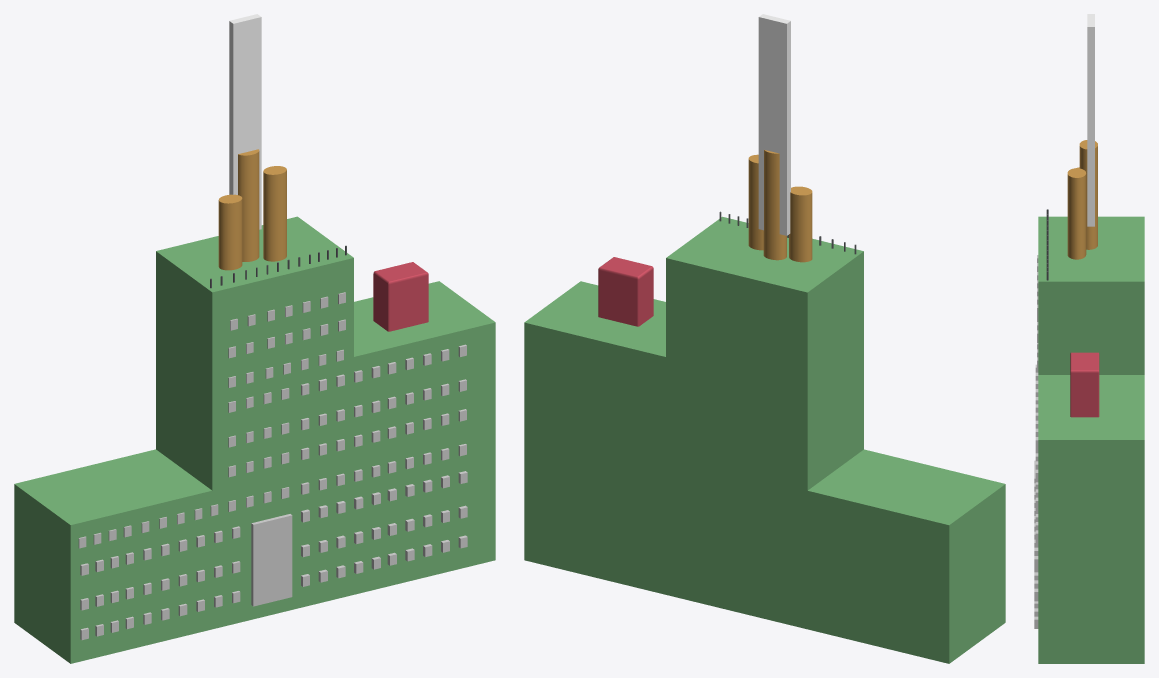
File: task_animated.glb
3 renders of one model, left to right at view 1: azimuth 30°, elevation 25°; view 2: azimuth 150°, elevation 25°; view 3: azimuth 270°, elevation 25°, orthographic. The views are drawn at different scales.
Parts seen in each view (by area): view 1: Mesh_Mesh_head_geo.001_lambert2SG.001, Smoke Domain; view 2: Mesh_Mesh_head_geo.001_lambert2SG.001, Smoke Domain; view 3: Mesh_Mesh_head_geo.001_lambert2SG.001, Smoke Domain.
Part boxes in pixels (x1=…): Mesh_Mesh_head_geo.001_lambert2SG.001: x1=14, y1=149, x2=495, y2=663; Smoke Domain: x1=229, y1=14, x2=261, y2=229; Mesh_Mesh_head_geo.001_lambert2SG.001: x1=524, y1=150, x2=1005, y2=663; Smoke Domain: x1=758, y1=14, x2=790, y2=235; Mesh_Mesh_head_geo.001_lambert2SG.001: x1=1034, y1=140, x2=1144, y2=663; Smoke Domain: x1=1087, y1=14, x2=1094, y2=226.
Bounding box in the file's own units: 103 × 133 × 24.61.
